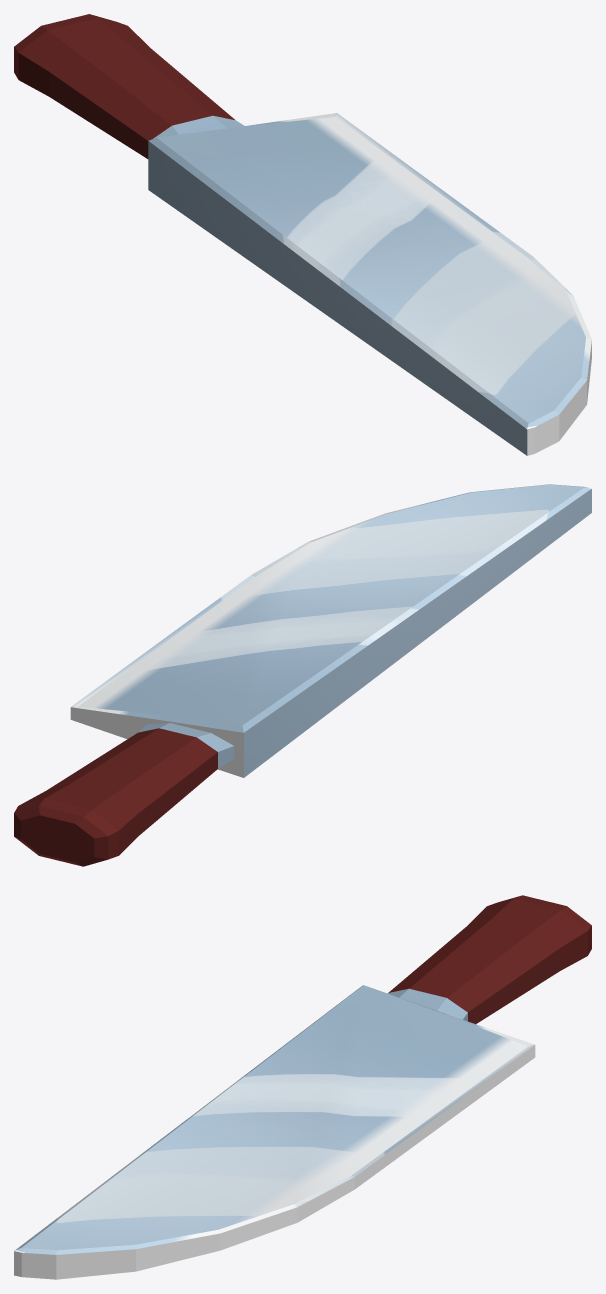
The model's file is knife.fbx.
The picture shows the model from 3 angles, top to bottom: view 1: azimuth 30°, elevation 25°; view 2: azimuth 150°, elevation 25°; view 3: azimuth 330°, elevation 25°; orthographic projection. The views are drawn at different scales.
Parts seen in each view (by area): view 1: Cube_032; view 2: Cube_032; view 3: Cube_032.
Boxes of the visible parts, x1=… form: Cube_032: x1=14, y1=14, x2=591, y2=455; Cube_032: x1=14, y1=484, x2=591, y2=866; Cube_032: x1=14, y1=895, x2=591, y2=1279.
Bounding box in the file's own units: 0.7503 × 0.2208 × 3.61.
Materials: 1 (1 with a texture image).
